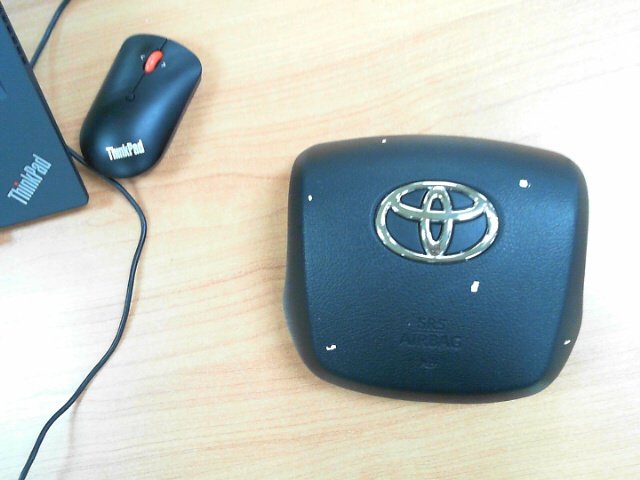Airbag: (470, 280, 480, 293), (325, 344, 337, 352), (519, 179, 528, 188), (307, 194, 313, 202), (564, 339, 571, 345), (382, 139, 386, 143)
